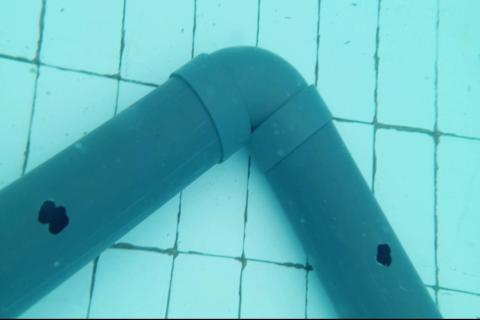kebocoran: (37, 198, 70, 237), (375, 242, 393, 267)
